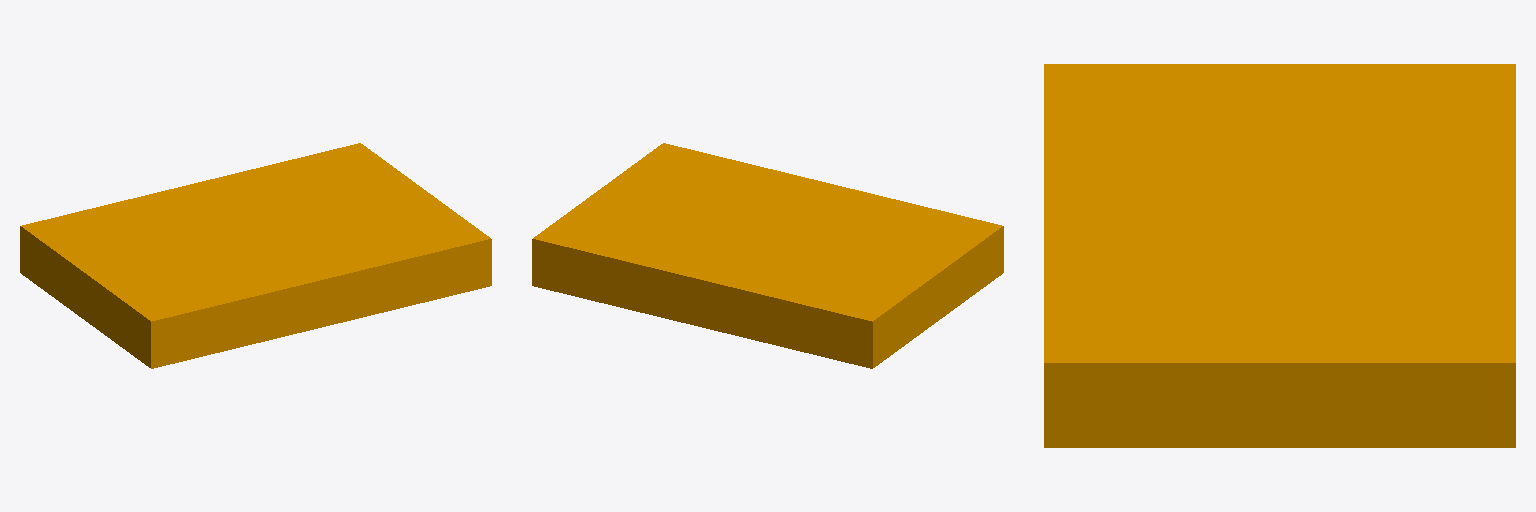
robot.urdf — object:
<?xml version="1.0"?>
<robot name="object">
  <link name="object">
    <visual>
      <origin xyz="0 0 0"/>
      <geometry>
        <box size="0.06 0.04 0.008"/>
      </geometry>
    </visual>
    <collision>
      <origin xyz="0 0 0"/>
      <geometry>
        <box size="0.06 0.04 0.008"/>
      </geometry>
    </collision>
     <inertial>
      <mass value="0.1"/>
      <inertia ixx="0.05" ixy="0.0" ixz="0.0" iyy="0.05" iyz="0.0" izz="0.05"/>
    </inertial>
  </link>
</robot>

--- Facts derived from the render (not from the file) ---
Views: 3 orthographic renders of the robot side by side, from view 1: azimuth 30°, elevation 25°; view 2: azimuth 150°, elevation 25°; view 3: azimuth 270°, elevation 25°.
Model object with 1 links and 0 joints (none), rooted at object, posed every joint at zero.
Links seen in each view (by area): view 1: object; view 2: object; view 3: object.
Boxes of the visible links, bbox=[...] form: object: bbox=[20, 143, 491, 368]; object: bbox=[532, 143, 1003, 368]; object: bbox=[1044, 64, 1515, 447].
Size in the robot's own frame: 0.06 by 0.04 by 0.008 metres.
Geometry: primitives only (box / cylinder / sphere), no mesh files.